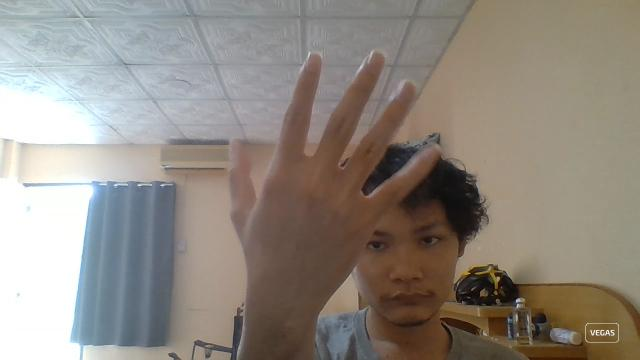backword: (227, 47, 441, 357)
